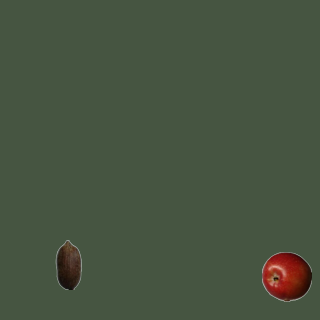Apple Braeburn: (261, 251, 311, 301)
Nut Pecan: (43, 239, 93, 289)
